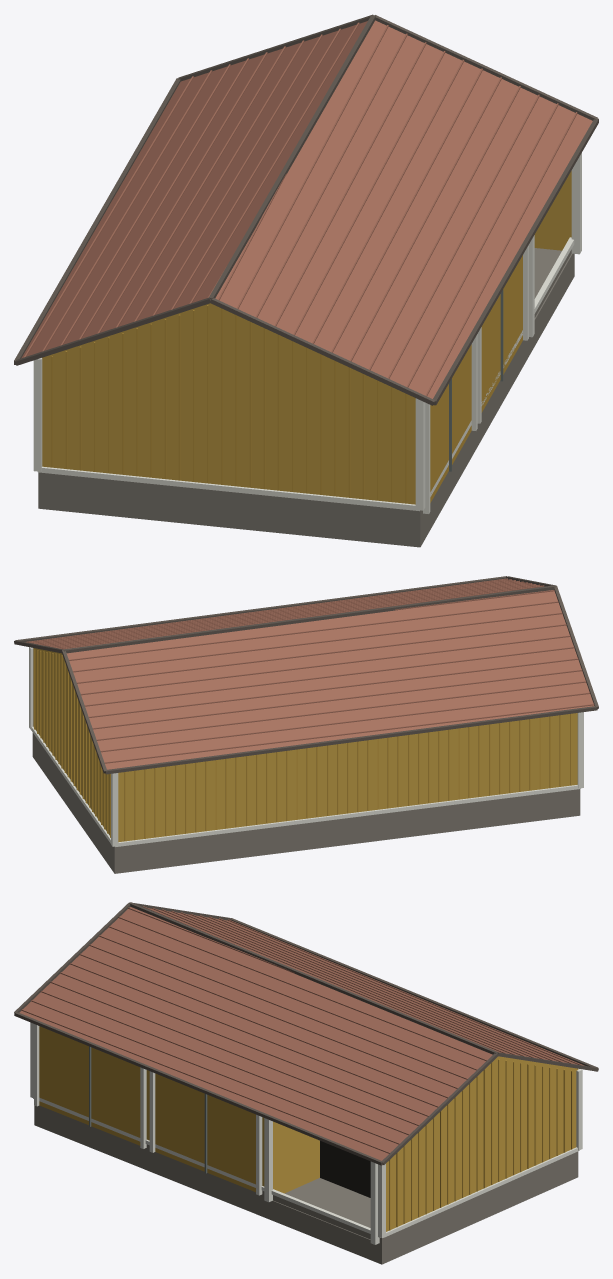
The picture shows the model from 3 angles, top to bottom: view 1: azimuth 30°, elevation 25°; view 2: azimuth 150°, elevation 25°; view 3: azimuth 270°, elevation 25°; orthographic projection. The views are drawn at different scales.
Visible parts, largest first — view 1: Tortuna facility | entry-outbuilding | Roof tile, Tortuna facility | entry-outbuilding | Timber, Tortuna facility | entry-outbuilding | Foundation, Tortuna facility | entry-outbuilding | Tile course, Tortuna facility | entry-outbuilding | Roof flashing, Tortuna facility | entry-outbuilding | White trim, Tortuna facility | entry-outbuilding | Batten, Tortuna facility | entry-outbuilding | Door panel; view 2: Tortuna facility | entry-outbuilding | Roof tile, Tortuna facility | entry-outbuilding | Timber, Tortuna facility | entry-outbuilding | Tile course, Tortuna facility | entry-outbuilding | Foundation, Tortuna facility | entry-outbuilding | Batten, Tortuna facility | entry-outbuilding | Roof flashing, Tortuna facility | entry-outbuilding | White trim; view 3: Tortuna facility | entry-outbuilding | Roof tile, Tortuna facility | entry-outbuilding | Timber, Tortuna facility | entry-outbuilding | Tile course, Tortuna facility | entry-outbuilding | Foundation, Tortuna facility | entry-outbuilding | Door panel, Tortuna facility | entry-outbuilding | Roof flashing, Tortuna facility | entry-outbuilding | White trim, Tortuna facility | entry-outbuilding | Batten, Tortuna facility | entry-outbuilding | Interior shadow, Tortuna facility | entry-outbuilding | Metal.
Boxes of the visible parts, left/top/right/bottom form: Tortuna facility | entry-outbuilding | Roof tile: left=21, top=20, right=592, bottom=398; Tortuna facility | entry-outbuilding | Timber: left=42, top=171, right=571, bottom=504; Tortuna facility | entry-outbuilding | Foundation: left=38, top=248, right=574, bottom=547; Tortuna facility | entry-outbuilding | Tile course: left=24, top=22, right=577, bottom=396; Tortuna facility | entry-outbuilding | Roof flashing: left=14, top=14, right=598, bottom=405; Tortuna facility | entry-outbuilding | White trim: left=33, top=153, right=581, bottom=513; Tortuna facility | entry-outbuilding | Batten: left=51, top=305, right=406, bottom=503; Tortuna facility | entry-outbuilding | Door panel: left=430, top=255, right=522, bottom=502; Tortuna facility | entry-outbuilding | Roof tile: left=41, top=581, right=594, bottom=769; Tortuna facility | entry-outbuilding | Timber: left=33, top=648, right=577, bottom=842; Tortuna facility | entry-outbuilding | Tile course: left=26, top=578, right=594, bottom=763; Tortuna facility | entry-outbuilding | Foundation: left=32, top=733, right=580, bottom=873; Tortuna facility | entry-outbuilding | Batten: left=34, top=649, right=570, bottom=841; Tortuna facility | entry-outbuilding | Roof flashing: left=14, top=576, right=598, bottom=774; Tortuna facility | entry-outbuilding | White trim: left=29, top=647, right=583, bottom=846; Tortuna facility | entry-outbuilding | Roof tile: left=19, top=907, right=584, bottom=1160; Tortuna facility | entry-outbuilding | Timber: left=146, top=1056, right=578, bottom=1231; Tortuna facility | entry-outbuilding | Tile course: left=21, top=906, right=583, bottom=1153; Tortuna facility | entry-outbuilding | Foundation: left=34, top=1105, right=578, bottom=1264; Tortuna facility | entry-outbuilding | Door panel: left=39, top=1026, right=255, bottom=1192; Tortuna facility | entry-outbuilding | Roof flashing: left=14, top=902, right=598, bottom=1165; Tortuna facility | entry-outbuilding | White trim: left=30, top=1022, right=582, bottom=1244; Tortuna facility | entry-outbuilding | Batten: left=389, top=1059, right=572, bottom=1230; Tortuna facility | entry-outbuilding | Interior shadow: left=320, top=1141, right=370, bottom=1197; Tortuna facility | entry-outbuilding | Metal: left=89, top=1046, right=207, bottom=1173.
Size of the model in its own units: 13 by 4.26 by 13.16.
